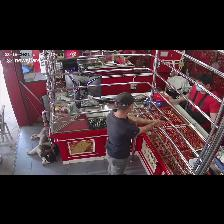person: (105, 93, 163, 174), (185, 86, 220, 121), (118, 50, 135, 53)
